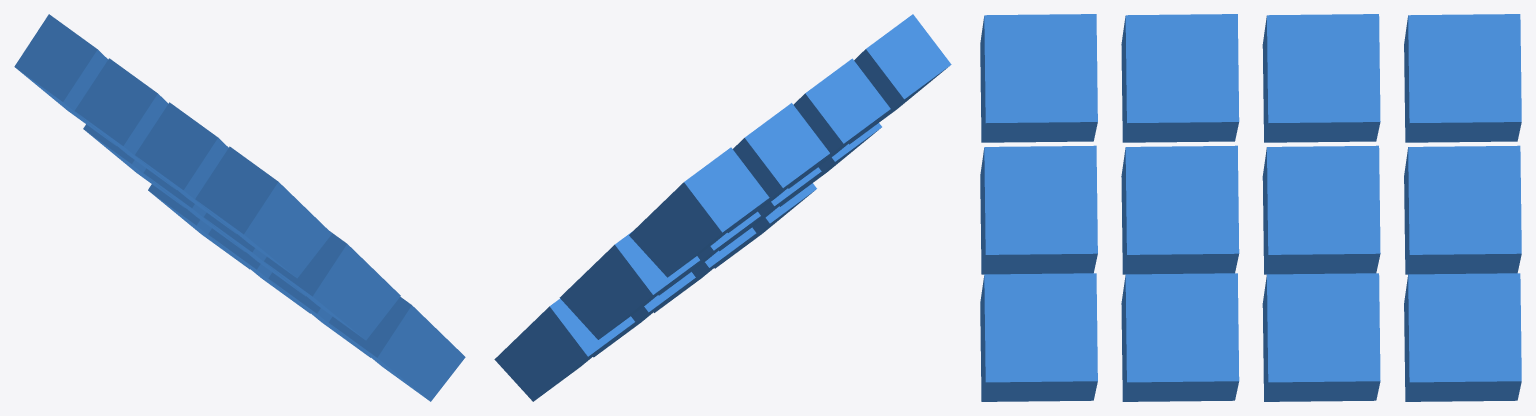
The model's file is computer key 4.fbx.
3 views of the same model, side by side, from view 1: azimuth 30°, elevation 25°; view 2: azimuth 150°, elevation 25°; view 3: azimuth 270°, elevation 25° (orthographic). The views are drawn at different scales.
Visible parts, largest first — view 1: Cylinder.012; view 2: Cylinder.012; view 3: Cylinder.012.
Boxes of the visible parts, x1=… form: Cylinder.012: x1=14, y1=14, x2=465, y2=401; Cylinder.012: x1=494, y1=14, x2=951, y2=401; Cylinder.012: x1=980, y1=14, x2=1521, y2=401.
Size of the model in its own units: 71.94 by 78.42 by 128.
